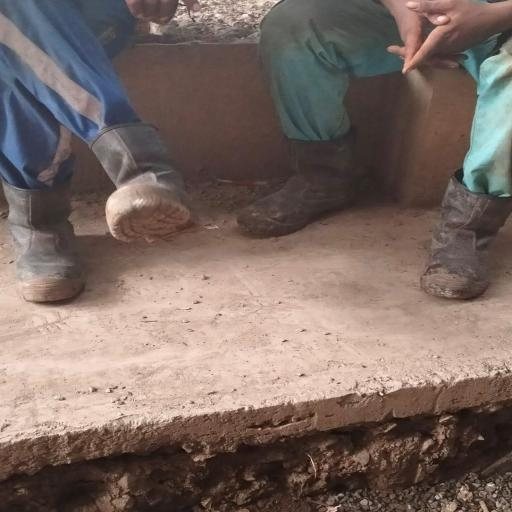safety_shoe: (90, 123, 224, 256), (234, 131, 393, 234), (6, 181, 100, 306), (418, 174, 504, 304)
